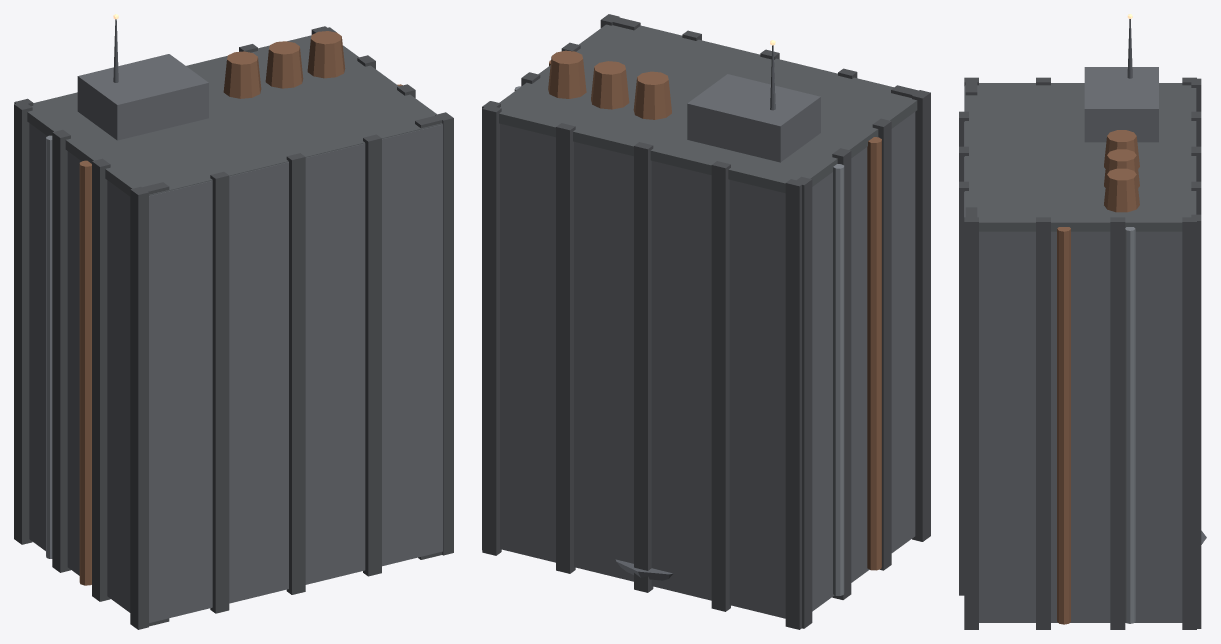
File: Setor_Contencao_07_Completo.fbx
3 views of the same model, side by side, from view 1: azimuth 30°, elevation 25°; view 2: azimuth 150°, elevation 25°; view 3: azimuth 270°, elevation 25° (orthographic). The views are drawn at different scales.
Parts seen in each view (by area): view 1: parte frontal, parte lateral R, teto, parte lateral L, detalhes internos; view 2: parte dianteira, parte lateral R, teto, parte lateral L; view 3: parte lateral L, teto, parte dianteira, parte frontal, detalhes internos.
Part boxes in pixels (left/top/right/bottom): parte frontal: left=149, top=124, right=442, bottom=622; parte lateral R: left=14, top=102, right=148, bottom=629; teto: left=27, top=14, right=442, bottom=196; parte lateral L: left=322, top=27, right=453, bottom=555; detalhes internos: left=137, top=114, right=446, bottom=626; parte dianteira: left=482, top=105, right=804, bottom=629; parte lateral R: left=794, top=90, right=930, bottom=628; teto: left=499, top=24, right=917, bottom=193; parte lateral L: left=482, top=14, right=619, bottom=549; parte lateral L: left=964, top=217, right=1196, bottom=629; teto: left=965, top=14, right=1196, bottom=231; parte dianteira: left=1191, top=78, right=1201, bottom=628; parte frontal: left=959, top=86, right=968, bottom=595; detalhes internos: left=965, top=80, right=977, bottom=219.
Size of the model in its own units: 42.62 by 67.05 by 30.02.
